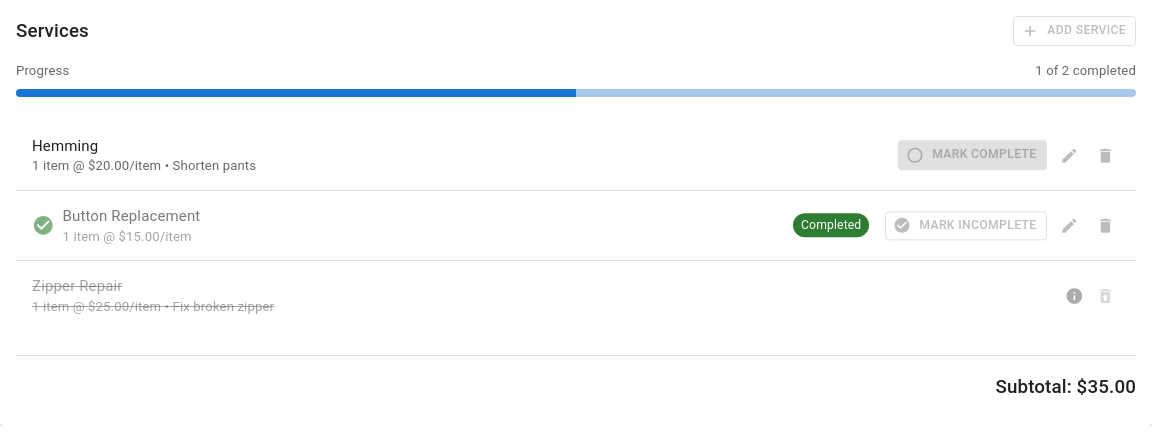
Test: GarmentServicesManager › When garment is Done › should show tooltip explaining why restore is disabled
Hover over the element named "restore service" at point(1106, 296), box [1091,282,1120,310]
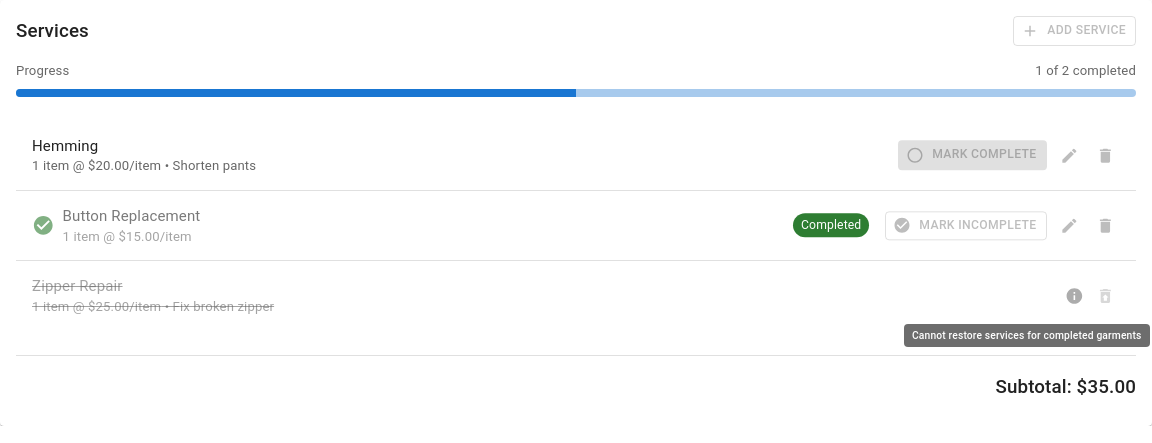
Expected: the text "Cannot restore services for completed garments" is shown, [904,324,1150,348]
